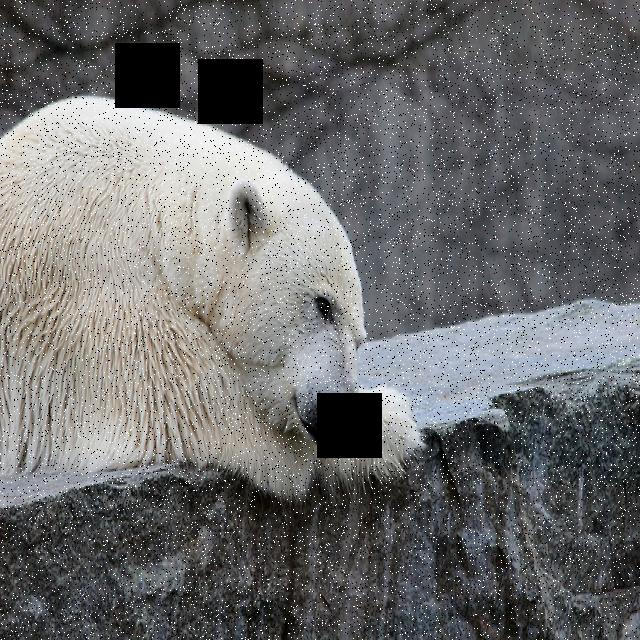Bear: (0, 86, 424, 505)
